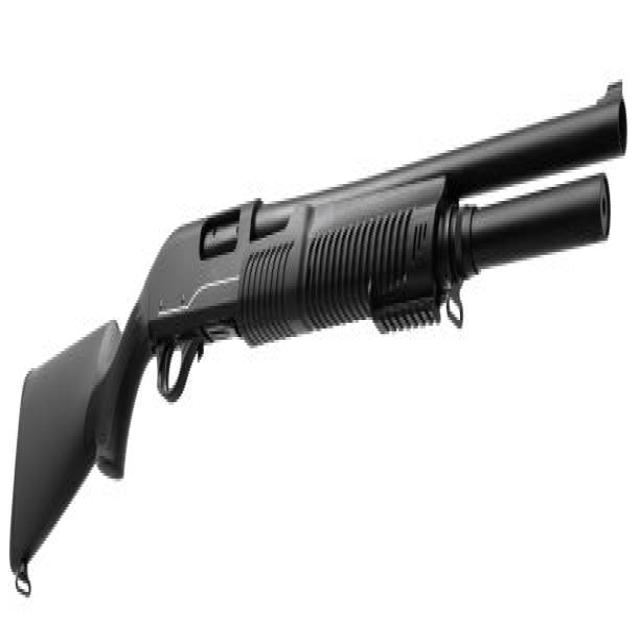rifle: (8, 63, 633, 605)
